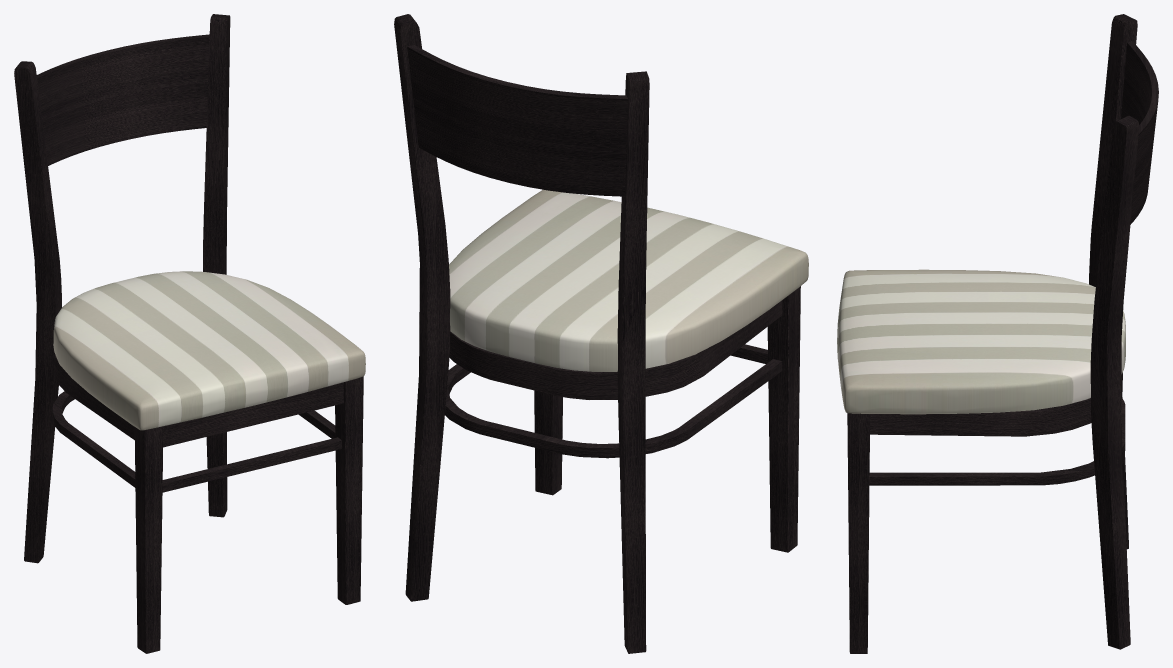
File: Chair.FBX
The picture shows the model from 3 angles, left to right: view 1: azimuth 30°, elevation 25°; view 2: azimuth 150°, elevation 25°; view 3: azimuth 270°, elevation 25°; orthographic projection. The views are drawn at different scales.
Visible parts, largest first — view 1: Chair; view 2: Chair; view 3: Chair.
Boxes of the visible parts, x1,y1,x2,y2 form: Chair: [14, 14, 365, 653]; Chair: [394, 14, 808, 653]; Chair: [837, 14, 1158, 653].
Bounding box in the file's own units: 45.35 × 93.77 × 51.78.
